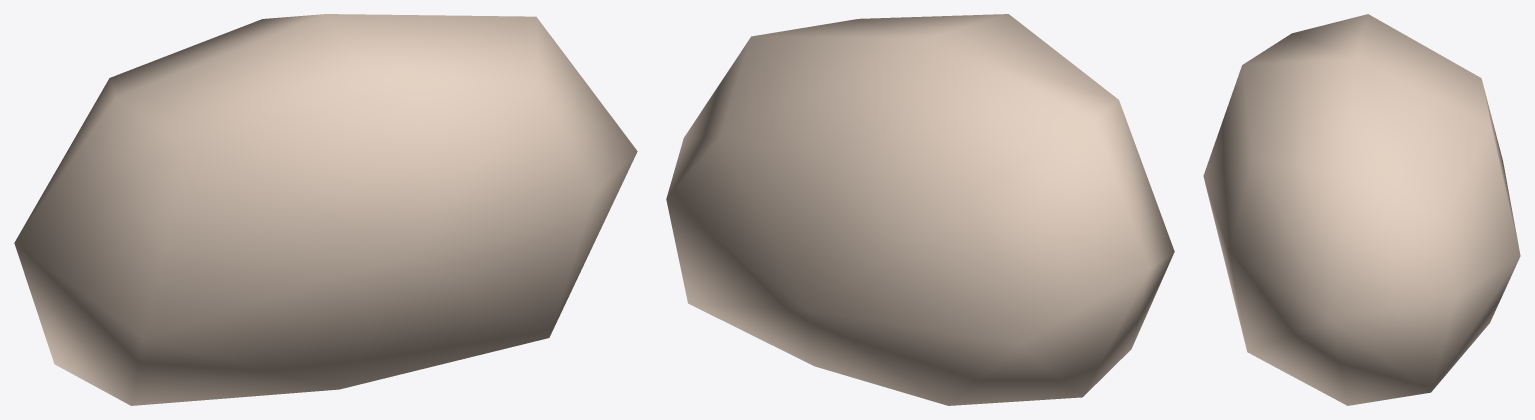
File: Rock_03.fbx
3 views of the same model, side by side, from view 1: azimuth 30°, elevation 25°; view 2: azimuth 150°, elevation 25°; view 3: azimuth 270°, elevation 25° (orthographic). The views are drawn at different scales.
Visible parts, largest first — view 1: Rock_03; view 2: Rock_03; view 3: Rock_03.
Part boxes in pixels (x1,y1,x2,y2): Rock_03: (14, 14, 637, 405); Rock_03: (666, 14, 1174, 405); Rock_03: (1203, 14, 1520, 405).
Bounding box in the file's own units: 33.29 × 20.6 × 20.52.
